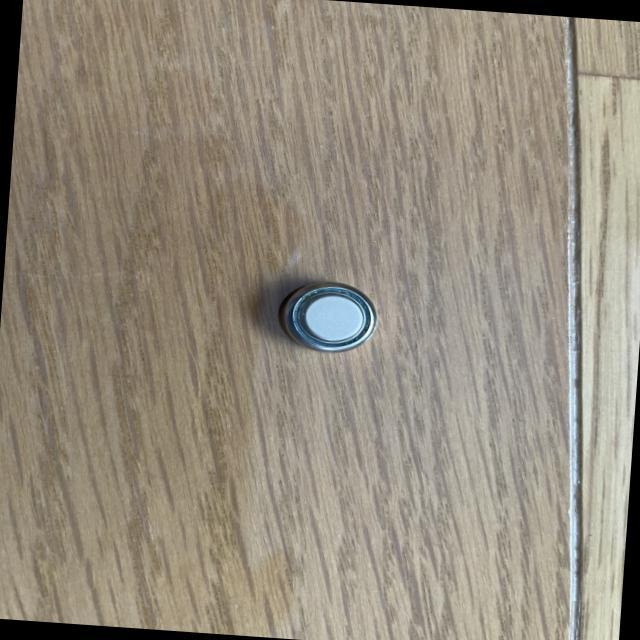COIN: (273, 277, 381, 356)
